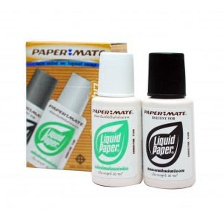book: (21, 38, 133, 175)
correction_fluid: (138, 49, 198, 190), (89, 50, 143, 188)
